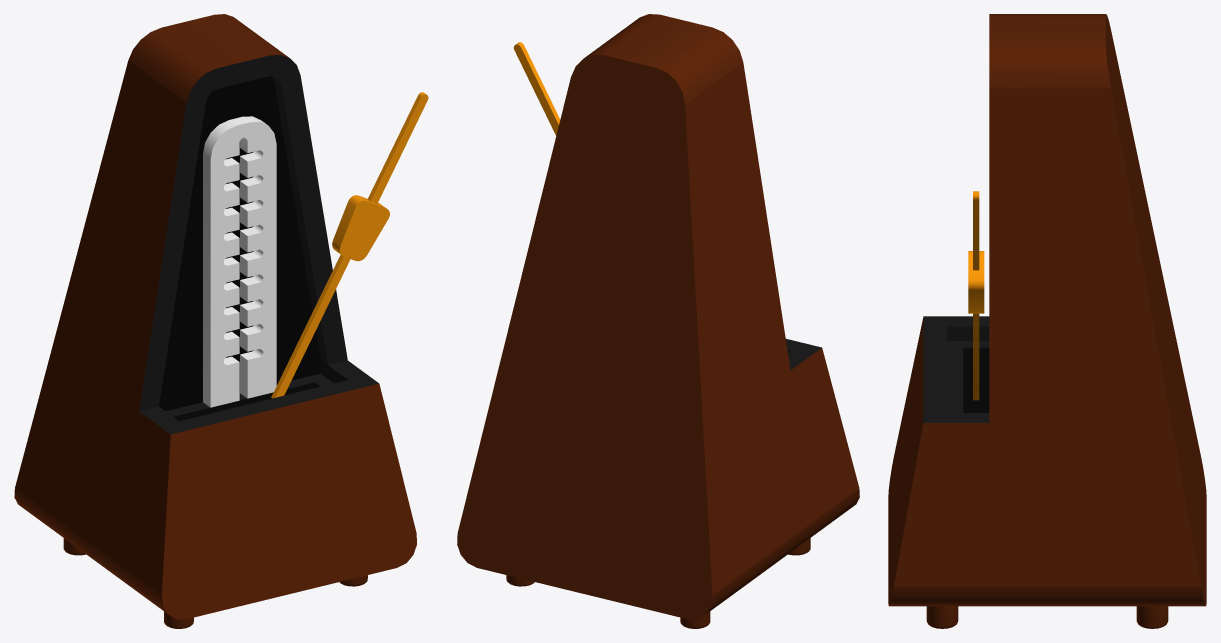
File: #05_Obj_Metronome.FBX
3 views of the same model, side by side, from view 1: azimuth 30°, elevation 25°; view 2: azimuth 150°, elevation 25°; view 3: azimuth 270°, elevation 25° (orthographic). The views are drawn at different scales.
Visible parts, largest first — view 1: #05_Obj_#05_Obj_Metronome, #05_Obj_Metronome_pin; view 2: #05_Obj_#05_Obj_Metronome, #05_Obj_Metronome_pin; view 3: #05_Obj_#05_Obj_Metronome, #05_Obj_Metronome_pin.
Boxes of the visible parts, x1,y1,x2,y2 form: #05_Obj_#05_Obj_Metronome: [14, 14, 416, 628]; #05_Obj_Metronome_pin: [271, 92, 428, 398]; #05_Obj_#05_Obj_Metronome: [457, 14, 859, 628]; #05_Obj_Metronome_pin: [513, 42, 560, 135]; #05_Obj_#05_Obj_Metronome: [888, 14, 1206, 628]; #05_Obj_Metronome_pin: [968, 191, 984, 400].
Size of the model in its own units: 1156 by 1000 by 1900.
